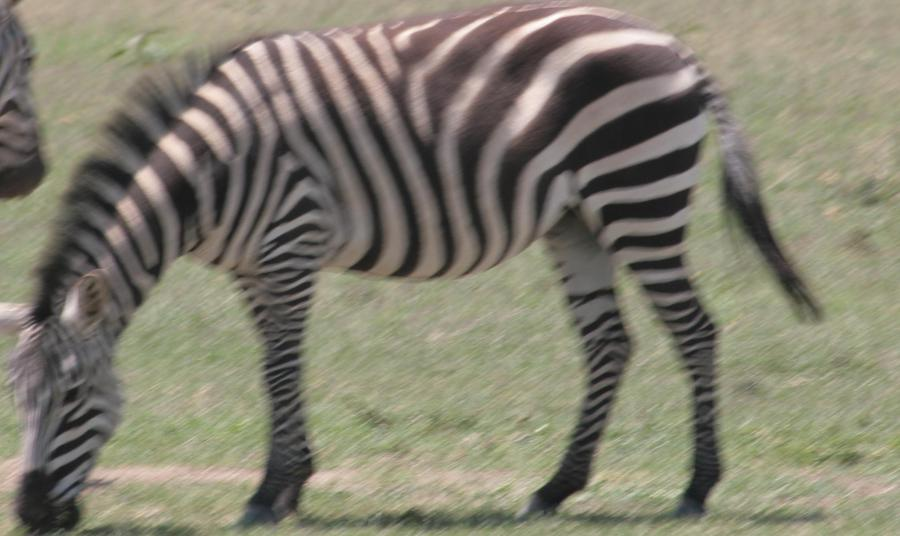zebra_plains: (188, 4, 689, 277)
